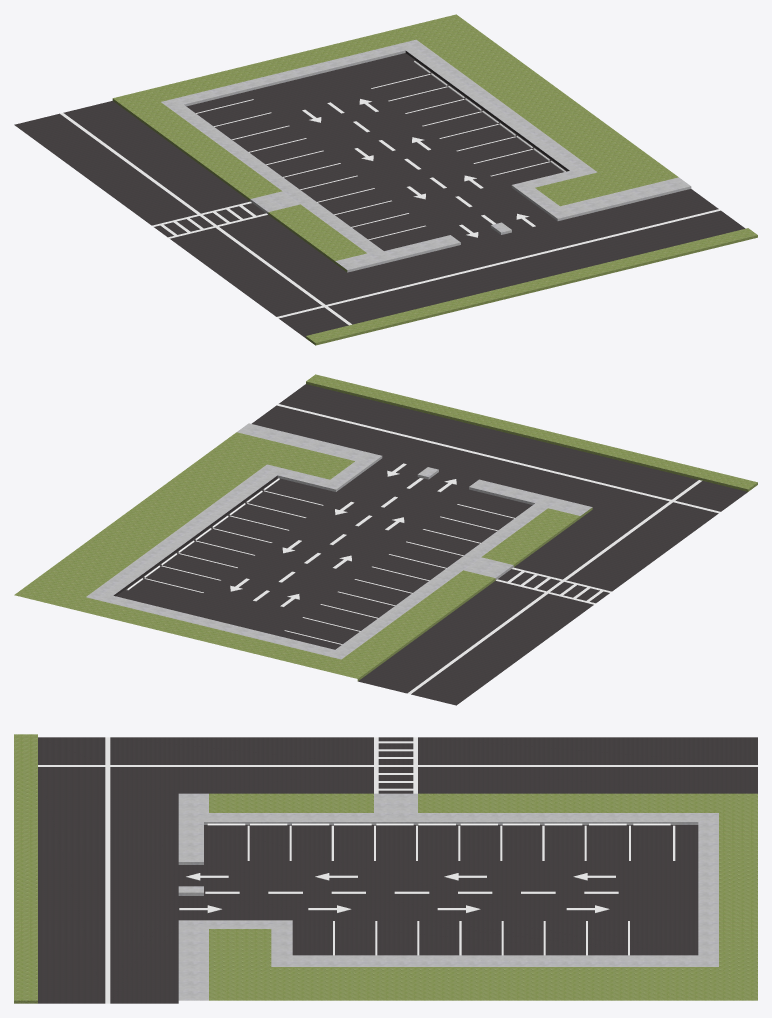
File: parking.glb
3 renders of one model, top to bottom at view 1: azimuth 30°, elevation 25°; view 2: azimuth 150°, elevation 25°; view 3: azimuth 270°, elevation 25°, orthographic. The views are drawn at different scales.
Visible parts, largest first — view 1: Material3 (×4); view 2: Material3 (×4); view 3: Material3 (×4).
Part boxes in pixels (left/top/right/bottom): Material3 (×4): left=14, top=14, right=757, bottom=345; Material3 (×4): left=14, top=374, right=757, bottom=705; Material3 (×4): left=14, top=734, right=757, bottom=1003.
Size of the model in its own units: 1615 by 8.7 by 1907.
5 materials, 3 textured.
